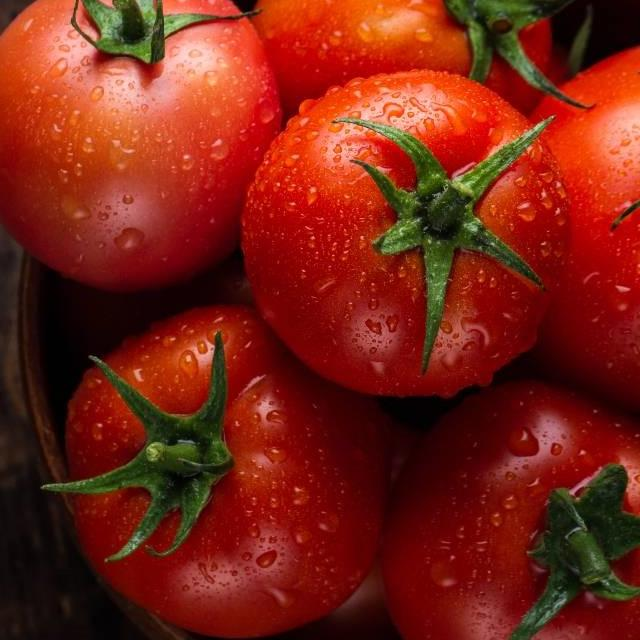tomato: (50, 308, 403, 638), (241, 70, 567, 396), (0, 0, 282, 290), (381, 380, 640, 640), (531, 46, 640, 409), (254, 0, 471, 116), (486, 58, 543, 112), (518, 20, 563, 82)
